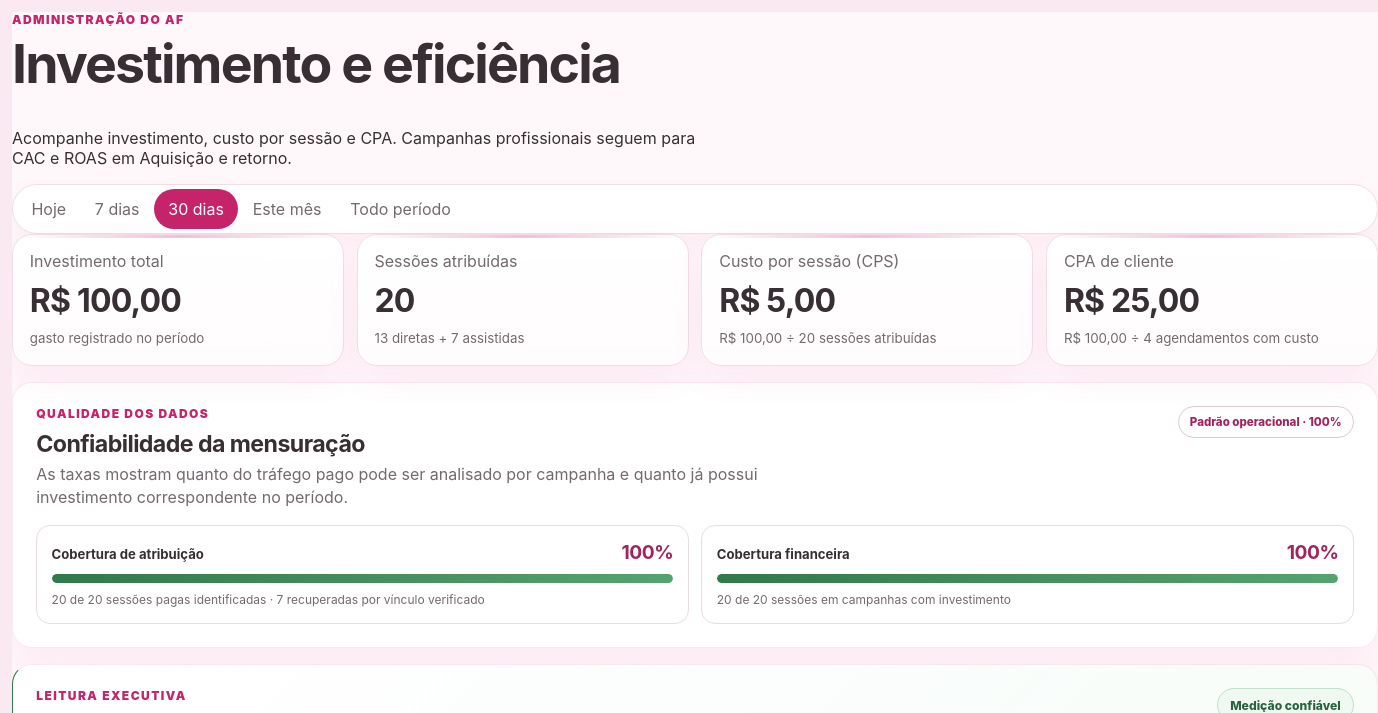
Test: AdminMarketingCostsPage › mantém custos do período carregado identificados quando a atualização falha
Check: the heading "Investimento e eficiência" is shown, box x1=12 y1=31 x2=620 y2=96
Step 1. Click the button "7 dias" → (117, 209), box x1=80 y1=189 x2=154 y2=229
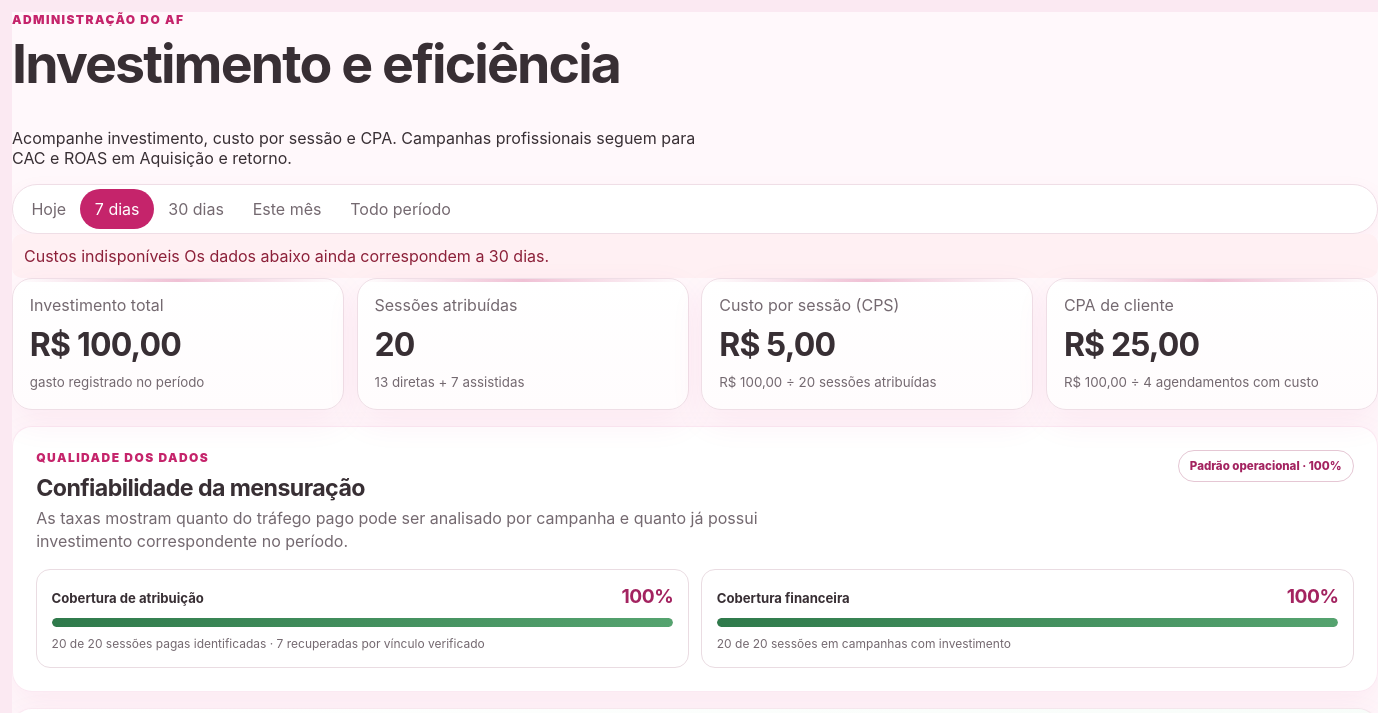
Check: the message shows "Custos indisponíveis", box x1=24 y1=246 x2=180 y2=266
Check: the message shows "30 dias", box x1=180 y1=246 x2=549 y2=266
